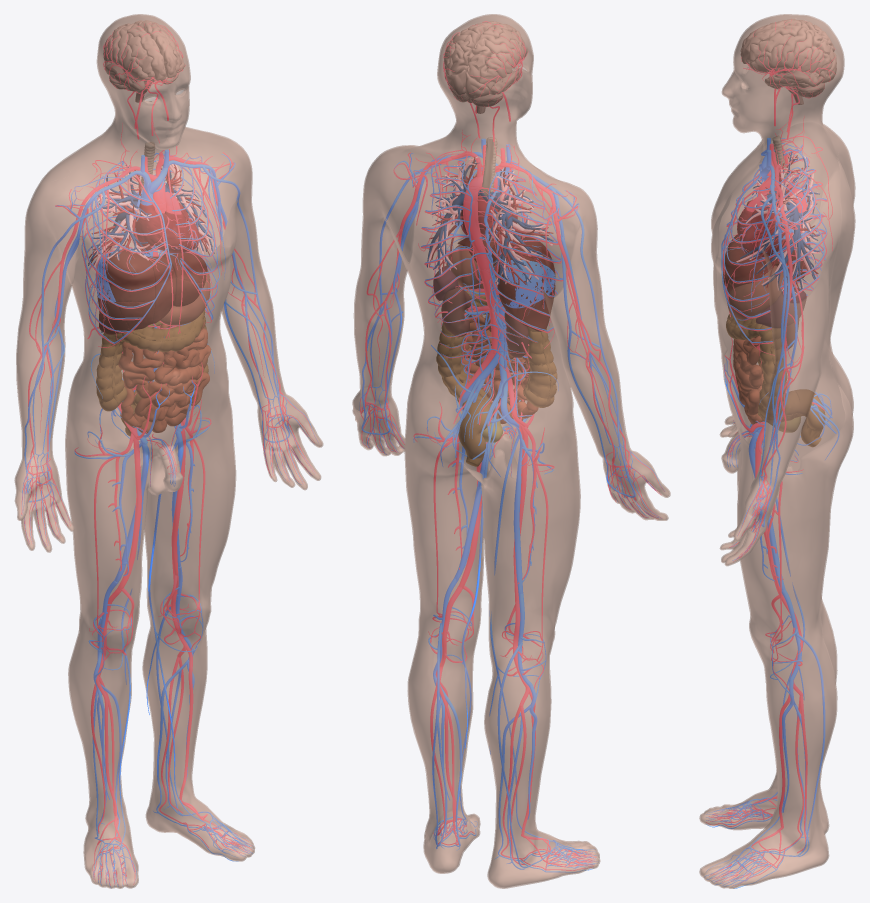
The model's file is core.glb.
3 views of the same model, side by side, from view 1: azimuth 30°, elevation 25°; view 2: azimuth 150°, elevation 25°; view 3: azimuth 270°, elevation 25° (orthographic). The views are drawn at different scales.
Parts seen in each view (by area): view 1: skin, vein, artery, smallIntestine, liver, brain, largeIntestine, heart, pulmonaryArtery, lungs, pulmonaryVein, stomach; view 2: skin, vein, artery, brain, largeIntestine, smallIntestine, pulmonaryArtery, liver, lungs, kidney, pulmonaryVein, stomach; view 3: skin, vein, artery, brain, largeIntestine, smallIntestine, pulmonaryArtery, stomach, liver, lungs, heart, spleen (+1 smaller).
Part boxes in pixels (x1,y1,x2,y2): skin: (14, 14, 323, 888); vein: (21, 149, 317, 887); artery: (21, 23, 314, 885); smallIntestine: (118, 321, 210, 433); liver: (97, 250, 207, 334); brain: (103, 20, 184, 102); largeIntestine: (96, 310, 208, 436); heart: (135, 203, 199, 253); pulmonaryArtery: (88, 157, 214, 332); lungs: (92, 156, 211, 270); pulmonaryVein: (89, 164, 212, 265); stomach: (160, 269, 210, 325); skin: (352, 14, 670, 888); vein: (359, 138, 663, 872); artery: (360, 21, 664, 870); brain: (444, 21, 527, 113); largeIntestine: (436, 301, 557, 466); smallIntestine: (461, 309, 538, 423); pulmonaryArtery: (427, 160, 553, 339); liver: (457, 235, 555, 331); lungs: (428, 156, 552, 284); kidney: (441, 287, 528, 357); pulmonaryVein: (429, 157, 553, 289); stomach: (446, 244, 496, 289); skin: (699, 14, 855, 888); vein: (704, 138, 839, 888); artery: (706, 20, 835, 884); brain: (740, 19, 836, 104); largeIntestine: (726, 314, 825, 447); smallIntestine: (733, 336, 764, 424); pulmonaryArtery: (740, 152, 819, 291); stomach: (727, 265, 787, 319); liver: (723, 235, 806, 293); lungs: (736, 153, 820, 293); heart: (737, 200, 792, 257); spleen: (756, 287, 806, 327).
Bounding box in the file's own units: 1.78 × 4.6 × 0.7812.
